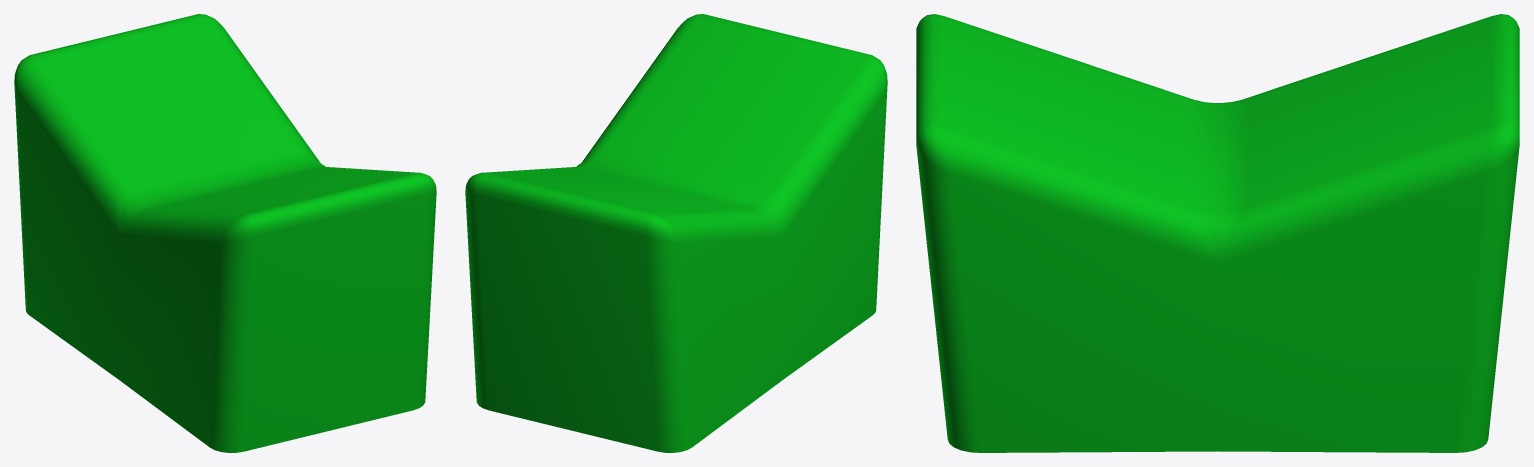
File: SwitchButton.fbx
3 views of the same model, side by side, from view 1: azimuth 30°, elevation 25°; view 2: azimuth 150°, elevation 25°; view 3: azimuth 270°, elevation 25° (orthographic). The views are drawn at different scales.
Visible parts, largest first — view 1: SwitchButton; view 2: SwitchButton; view 3: SwitchButton.
Boxes of the visible parts, <box> form: SwitchButton: <box>14,14,436,452</box>; SwitchButton: <box>465,14,887,452</box>; SwitchButton: <box>916,14,1519,452</box>.
Bounding box in the file's own units: 5.89 × 6.37 × 11.05.
